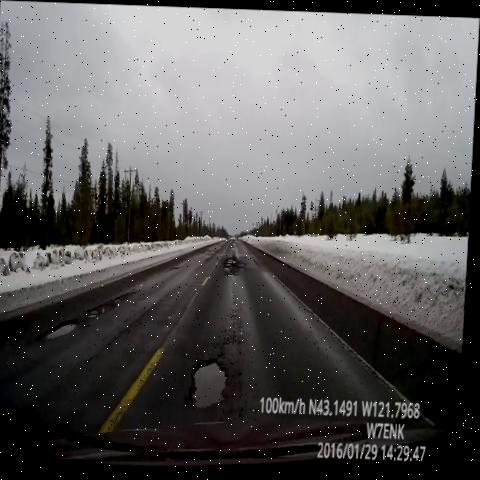pothole: (185, 345, 241, 417), (87, 277, 141, 323), (42, 309, 84, 354), (222, 244, 252, 280), (197, 242, 217, 259), (168, 258, 187, 274)
